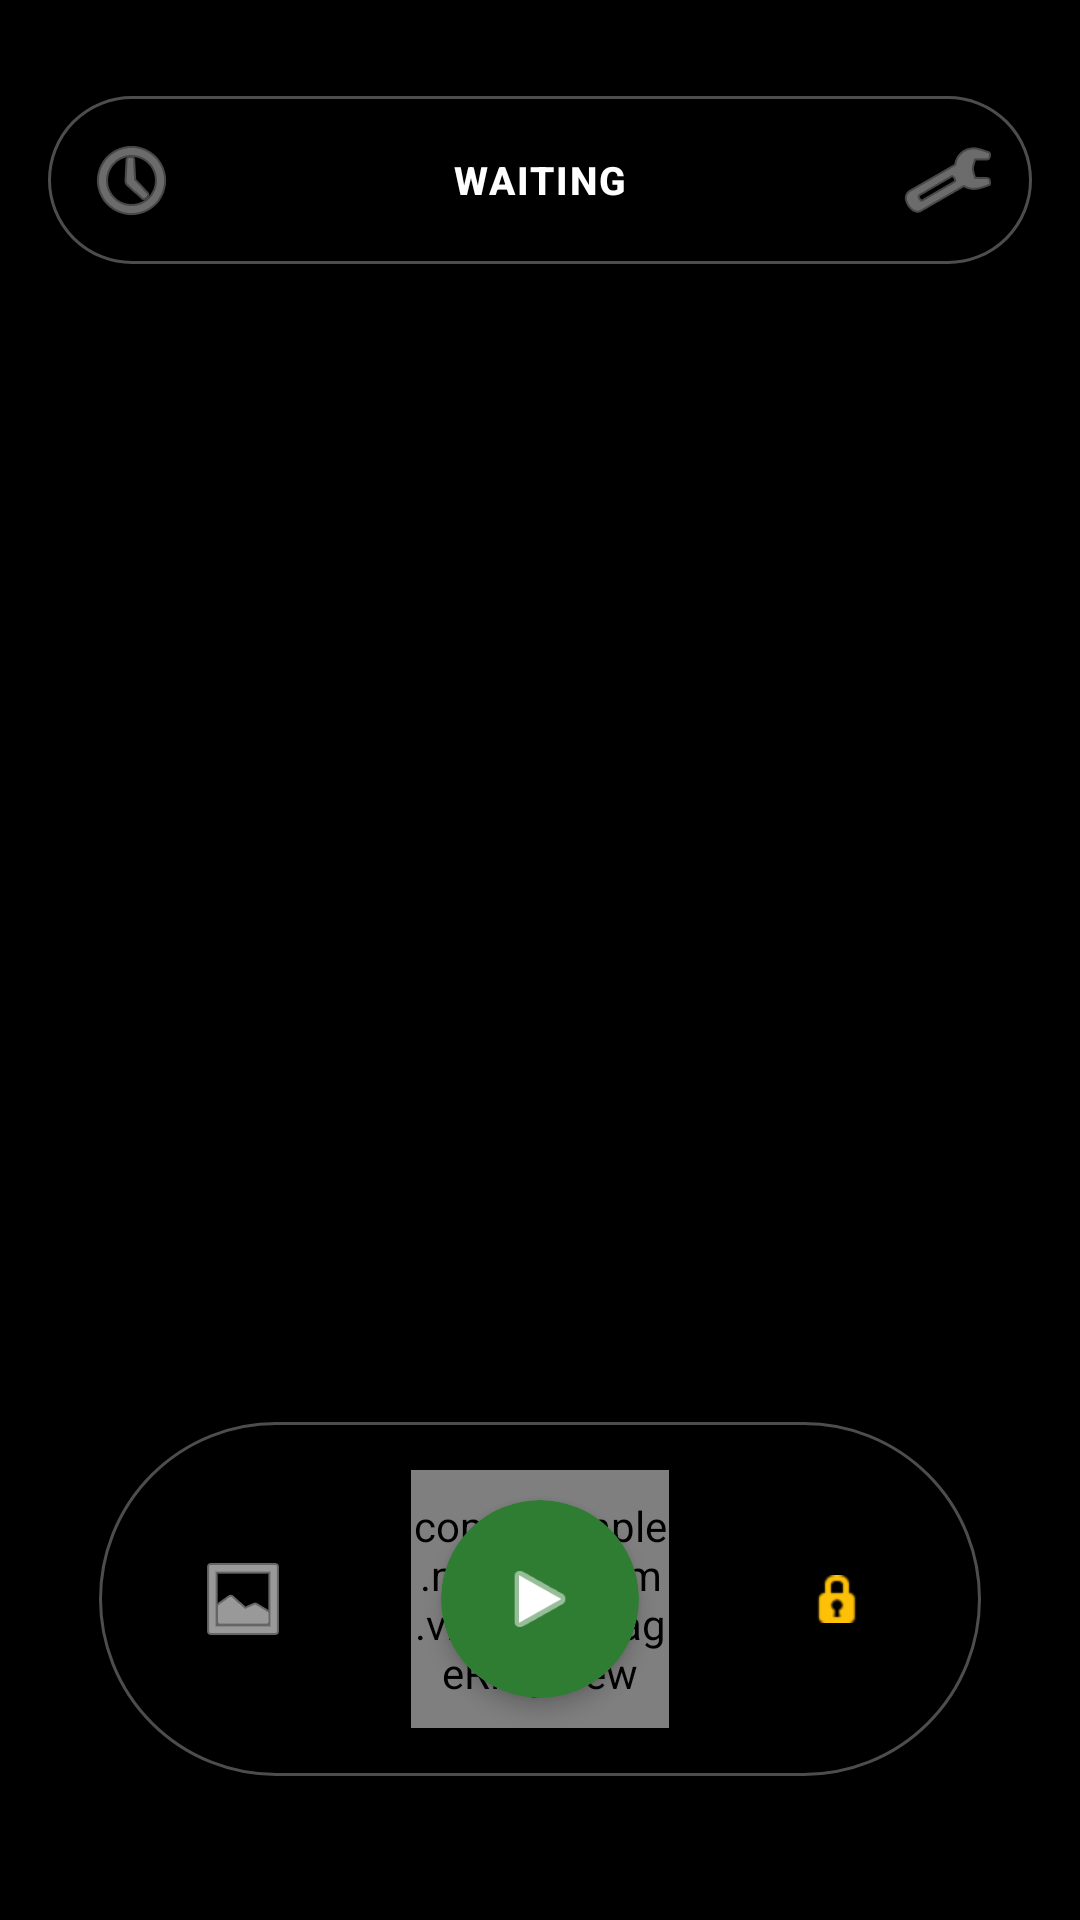

Icon bounding boxes for this 1080 × 1920 phone screenshot, format (x1, y1, x2, y2):
Open Gallery: (207, 1563, 279, 1635)
Protect current video: (818, 1575, 856, 1623)
Settings: (905, 147, 991, 213)
Start or Stop recording: (514, 1571, 566, 1627)
